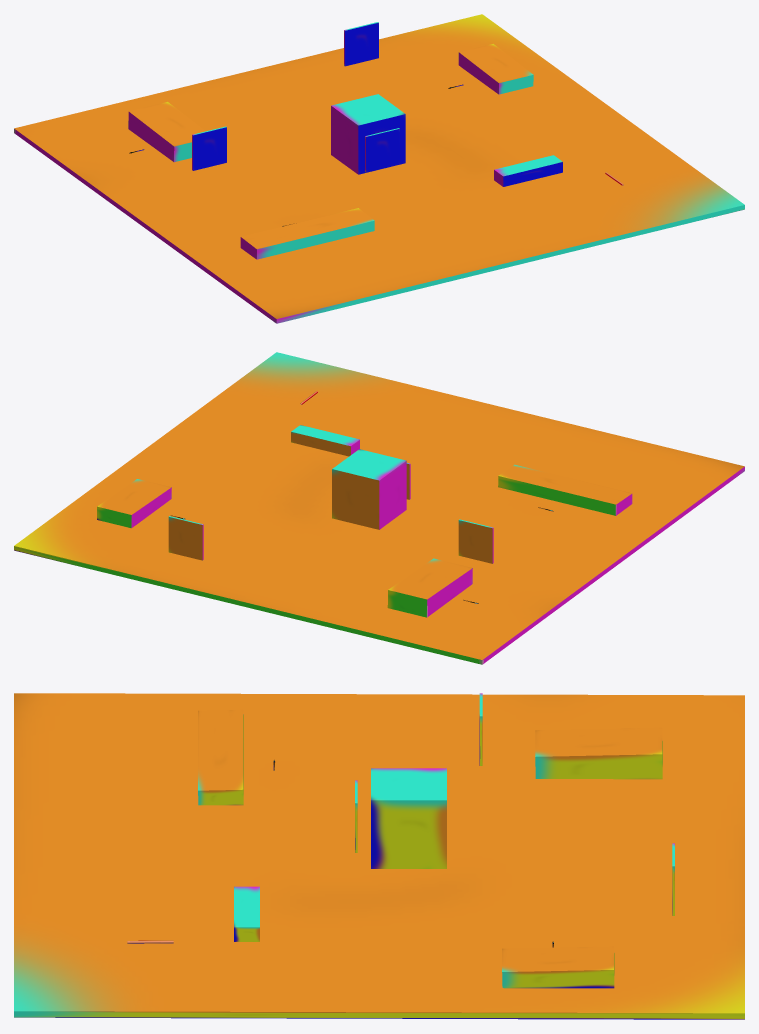
The model's file is game.gltf.
3 renders of one model, top to bottom at view 1: azimuth 30°, elevation 25°; view 2: azimuth 150°, elevation 25°; view 3: azimuth 270°, elevation 25°, orthographic. The views are drawn at different scales.
Visible parts, largest first — view 1: Ground, Cube.001, Cube.003, Cube.005, Cube.004, Cube.002, Target, Target.002, Target.001; view 2: Ground, Cube.001, Cube.003, Cube.005, Cube.004, Target.002, Target, Cube.002; view 3: Ground, Cube.001, Cube.005, Cube.004, Cube.003, Cube.002.
Boxes of the visible parts, bbox=[...] form: Ground: bbox=[14, 14, 744, 323]; Cube.001: bbox=[331, 94, 405, 174]; Cube.003: bbox=[240, 208, 374, 259]; Cube.005: bbox=[128, 102, 205, 162]; Cube.004: bbox=[458, 44, 533, 94]; Cube.002: bbox=[494, 155, 562, 186]; Target: bbox=[344, 22, 378, 66]; Target.002: bbox=[192, 126, 226, 170]; Target.001: bbox=[365, 128, 399, 172]; Ground: bbox=[14, 352, 744, 664]; Cube.001: bbox=[332, 449, 406, 529]; Cube.003: bbox=[498, 464, 632, 515]; Cube.005: bbox=[387, 558, 472, 617]; Cube.004: bbox=[97, 479, 171, 528]; Target.002: bbox=[458, 519, 493, 563]; Target: bbox=[168, 516, 203, 560]; Cube.002: bbox=[291, 425, 359, 456]; Ground: bbox=[14, 693, 744, 1019]; Cube.001: bbox=[371, 768, 446, 868]; Cube.005: bbox=[535, 727, 662, 779]; Cube.004: bbox=[502, 946, 614, 988]; Cube.003: bbox=[198, 709, 243, 805]; Cube.002: bbox=[234, 886, 259, 941].
Size of the model in its own units: 19.8 by 2.25 by 19.23.
Materials: 6 (6 with a texture image).
